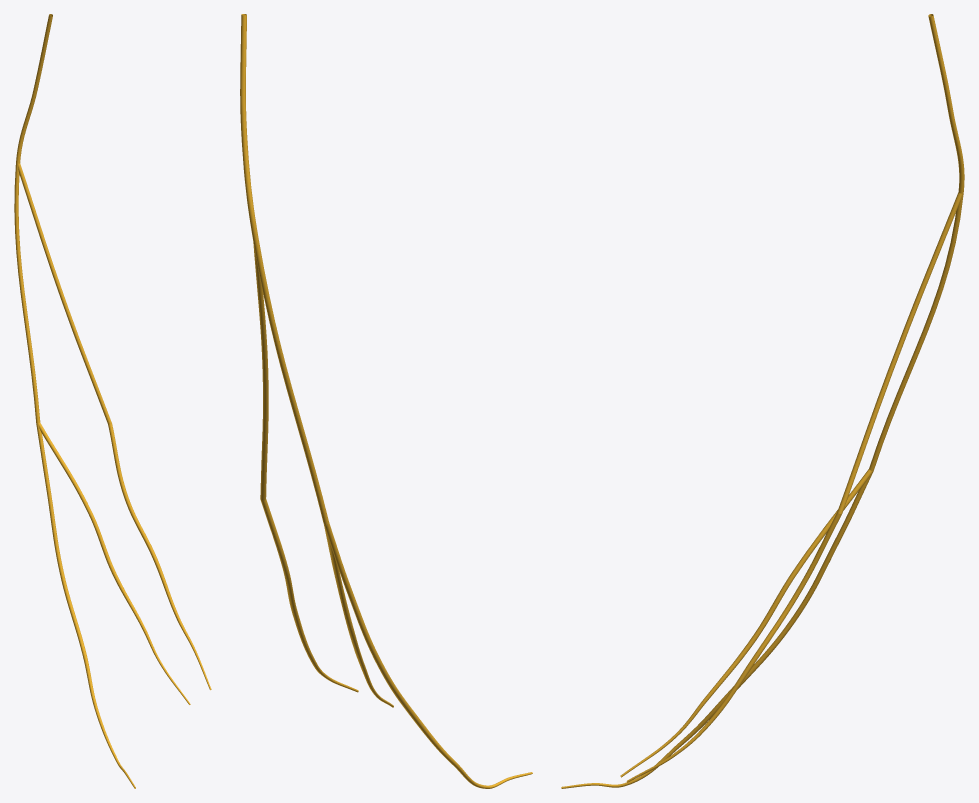
The model's file is nervoso-dorsal-branch-of-ulnar-nerve-r.glb.
The picture shows the model from 3 angles, left to right: view 1: azimuth 30°, elevation 25°; view 2: azimuth 150°, elevation 25°; view 3: azimuth 270°, elevation 25°; orthographic projection. The views are drawn at different scales.
Visible parts, largest first — view 1: Dorsal digital branches of ulnar nerve.r, Dorsal branch of ulnar nerve.r; view 2: Dorsal branch of ulnar nerve.r, Dorsal digital branches of ulnar nerve.r; view 3: Dorsal digital branches of ulnar nerve.r, Dorsal branch of ulnar nerve.r.
Boxes of the visible parts, x1,y1,x2,y2 form: Dorsal digital branches of ulnar nerve.r: (36,423,211,788); Dorsal branch of ulnar nerve.r: (14,14,111,424); Dorsal branch of ulnar nerve.r: (240,14,329,524); Dorsal digital branches of ulnar nerve.r: (260,499,532,788); Dorsal digital branches of ulnar nerve.r: (561,469,873,788); Dorsal branch of ulnar nerve.r: (837,14,964,514).
Bounding box in the file's own units: 0.0292 × 0.1697 × 0.0763.
